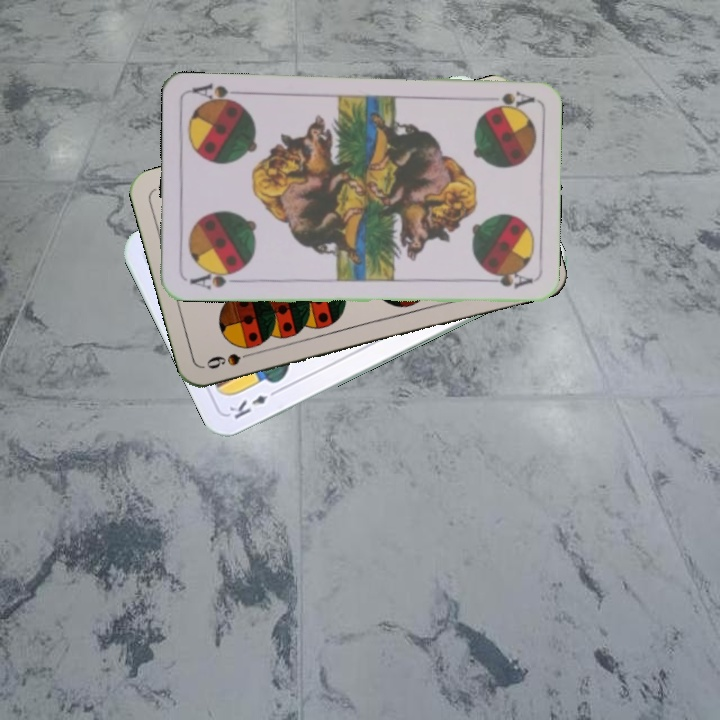EK: (225, 385, 282, 422)
S9: (202, 346, 260, 372)
SA: (185, 266, 243, 292), (484, 86, 536, 112)
